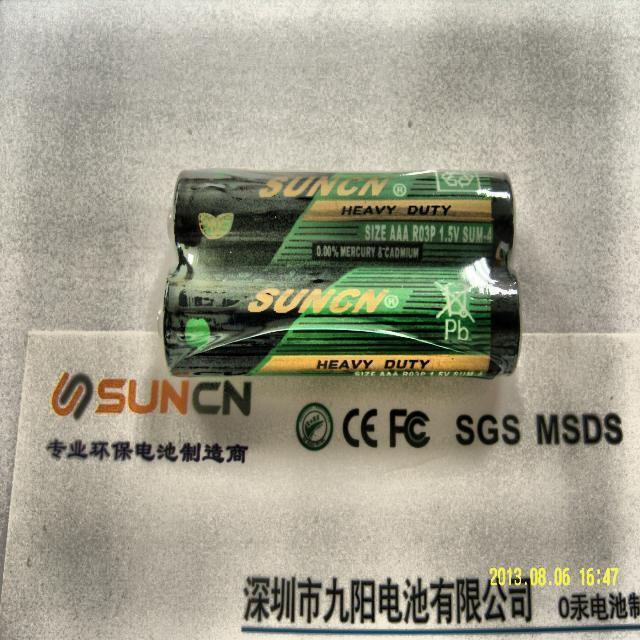battery: (162, 172, 520, 378)
